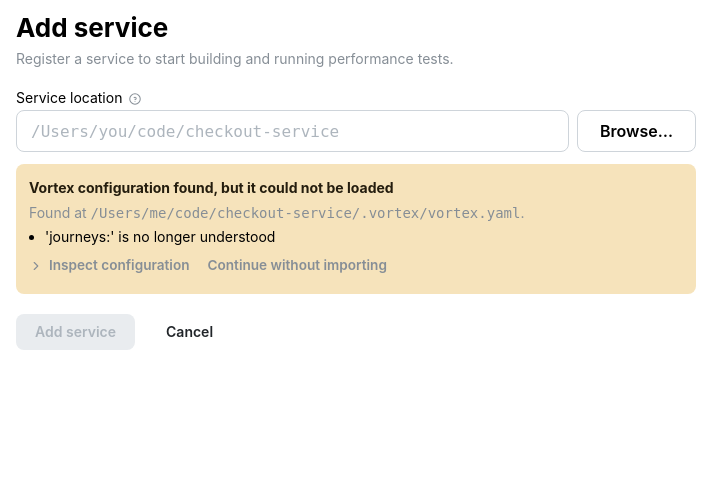
Test case: the new-service page › explains an invalid configuration and falls back to normal onboarding on request
This screenshot has width=713, height=482.
Type "/Users/me/code/checkout-service" into the field labelled "Service location".
click(292, 131); type("/Users/me/code/checkout-service")  # box [16,110,569,152]
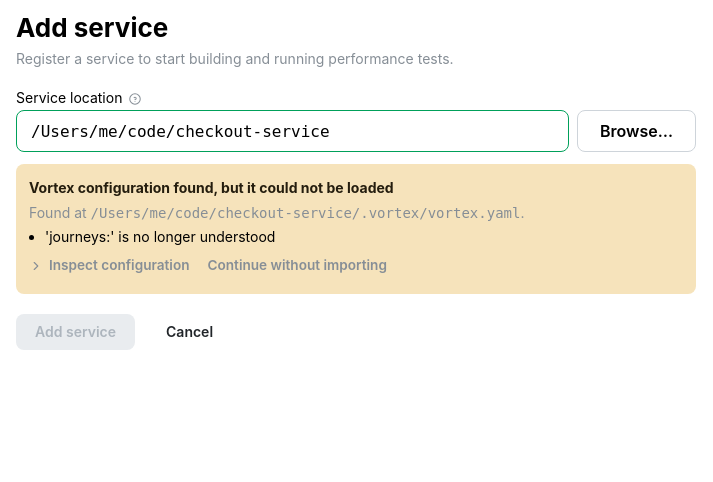
Expected: the text "Vortex configuration found, but it could not be loaded" is shown, [29,177,394,199]
Expected: the text "'journeys:' is no longer understood" is shown, [45,227,275,248]
Click the button "Continue without importing".
click(297, 266)  # box [202,252,393,281]
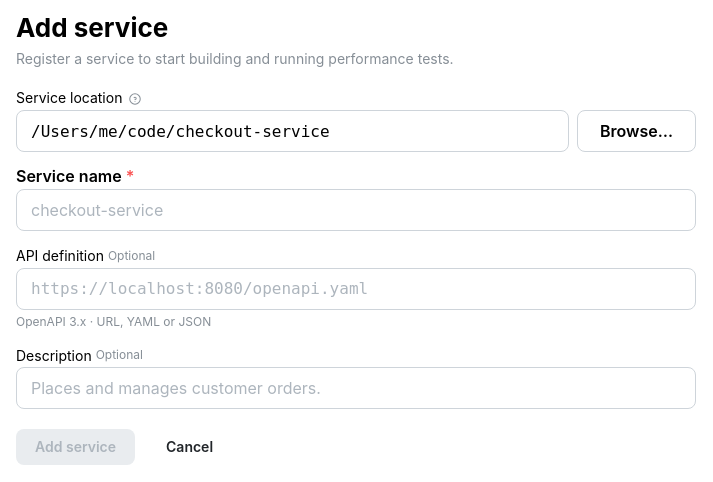
Now the field labelled "Service name" is shown, box [16,189,696,231]
